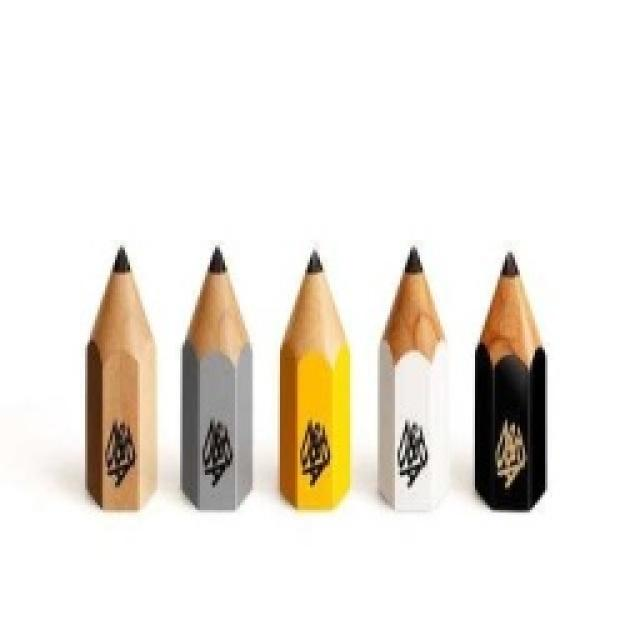pencil: (80, 242, 158, 510), (470, 248, 548, 510)
